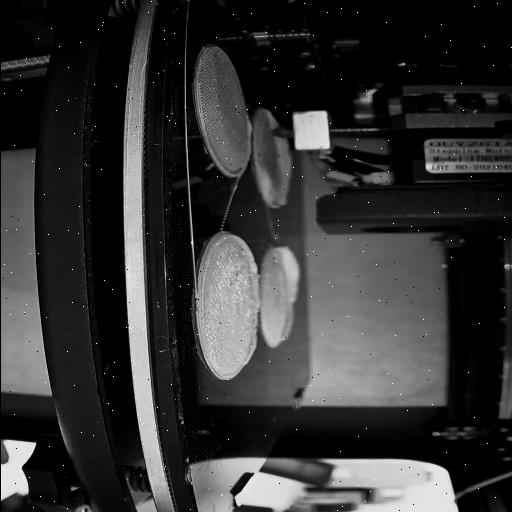over_extrusion: (200, 234, 258, 316), (270, 244, 304, 306), (268, 137, 292, 212), (280, 308, 298, 344), (244, 334, 258, 368), (260, 109, 279, 129), (244, 115, 256, 140)
